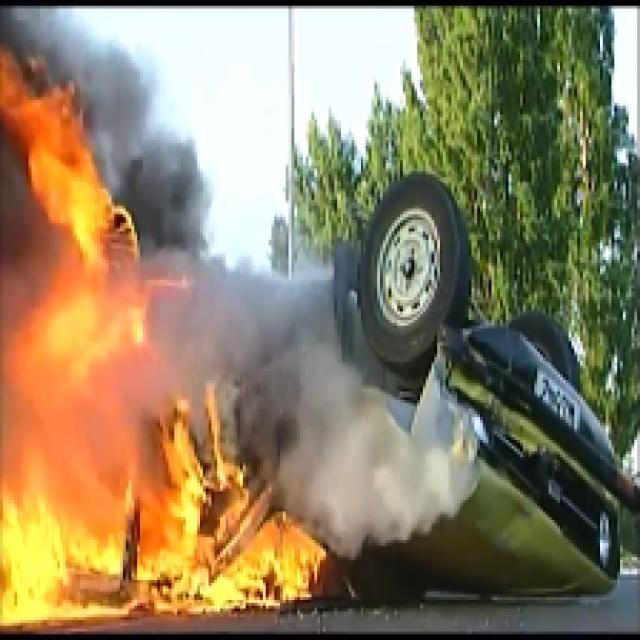fire: (0, 454, 294, 599), (7, 95, 115, 327)
smoke: (309, 383, 442, 528), (157, 286, 311, 400)
